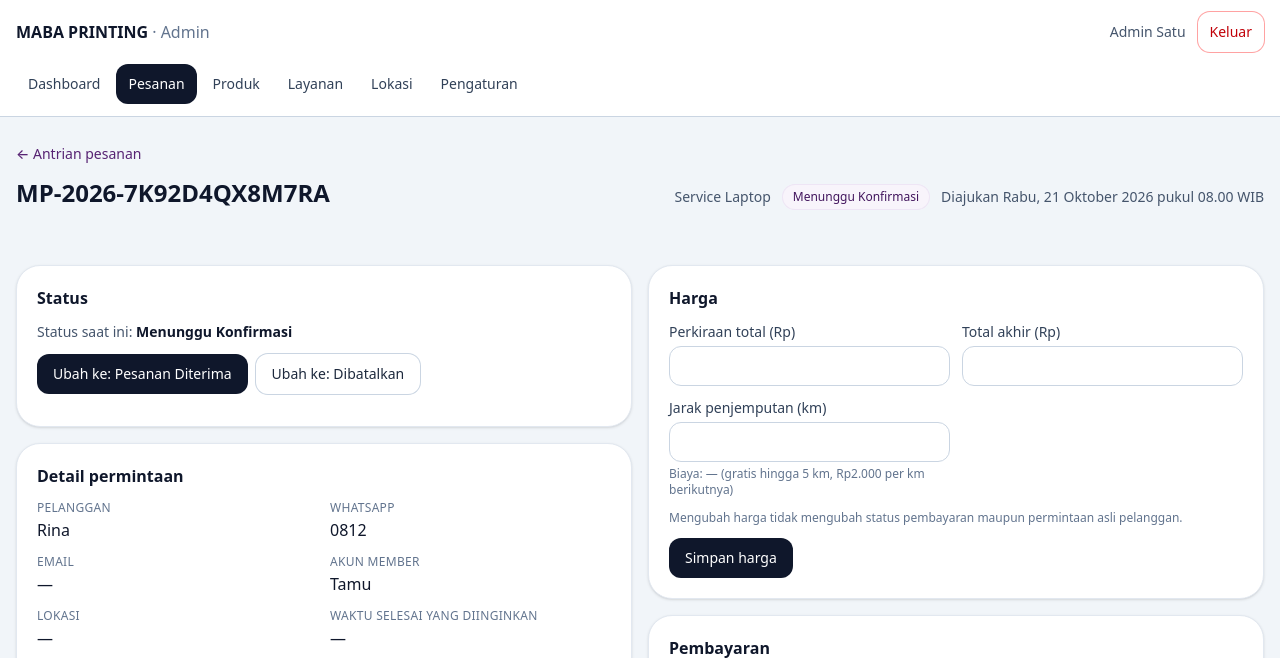
Test: Admin order detail › explains a conflict with another Admin and reloads the order
Click the button "Ubah ke: Pesanan Diterima": (142, 374) [37, 354, 248, 394]
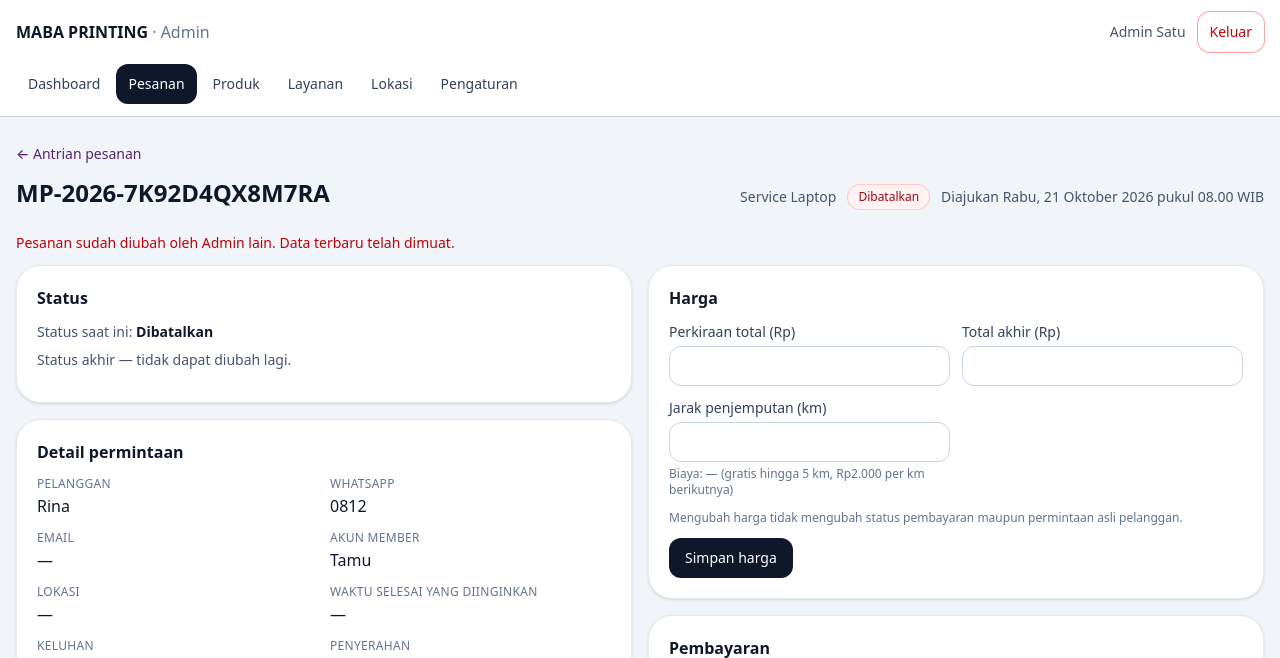
Expected: the text "Pesanan sudah diubah oleh Admin lain. Data terbaru telah dimuat." is shown, [16, 233, 455, 252]
Expected: the text "Status akhir — tidak dapat diubah lagi." is shown, [37, 350, 291, 369]
